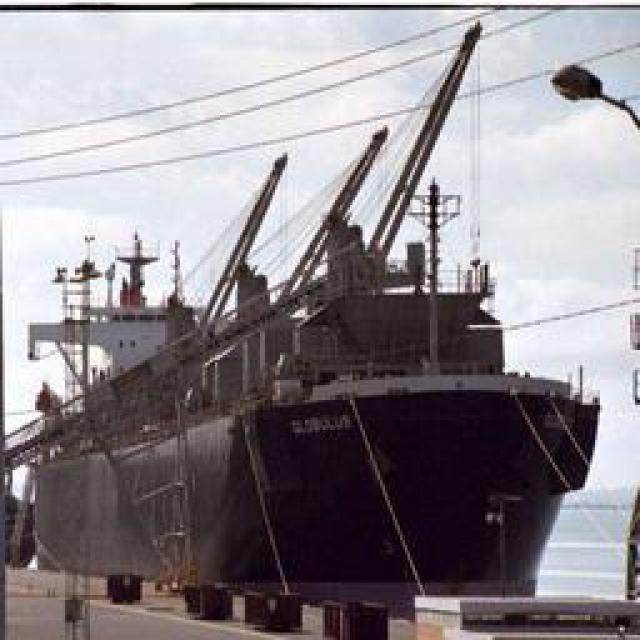Ship: (1, 9, 619, 632)
